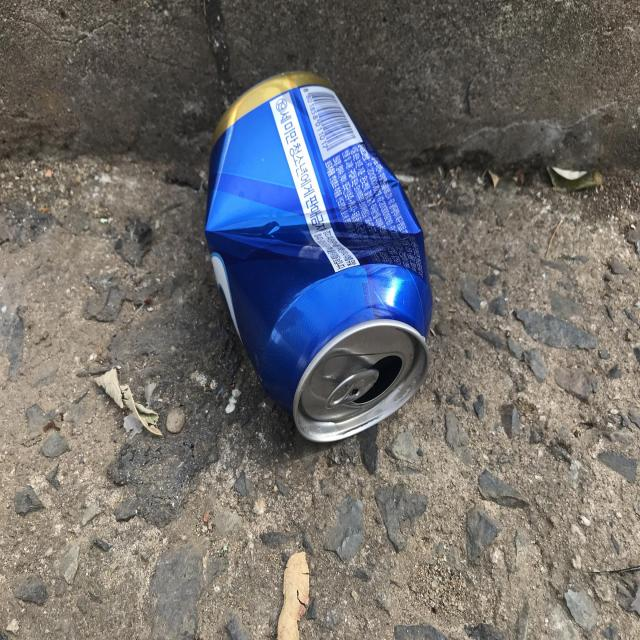can: (205, 72, 433, 442)
